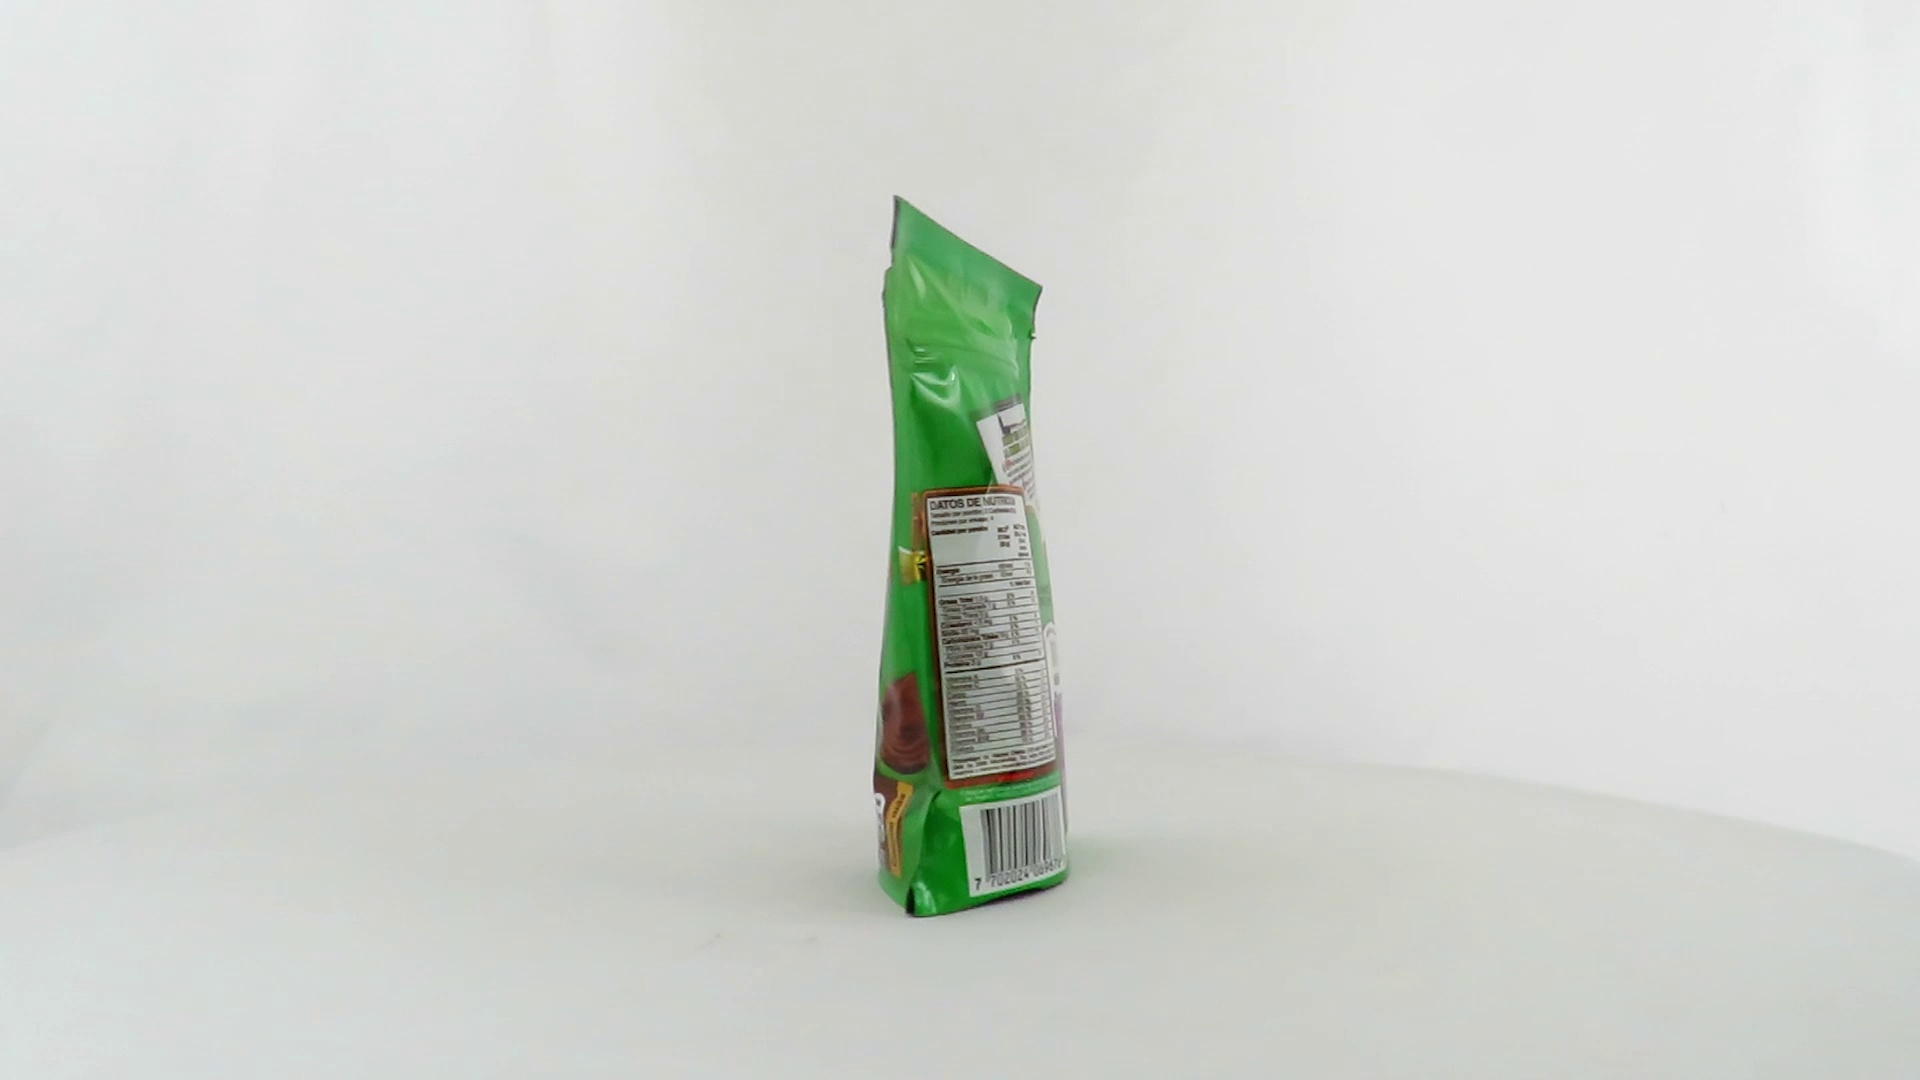COL0170203DYP10000: (868, 190, 1077, 924)
